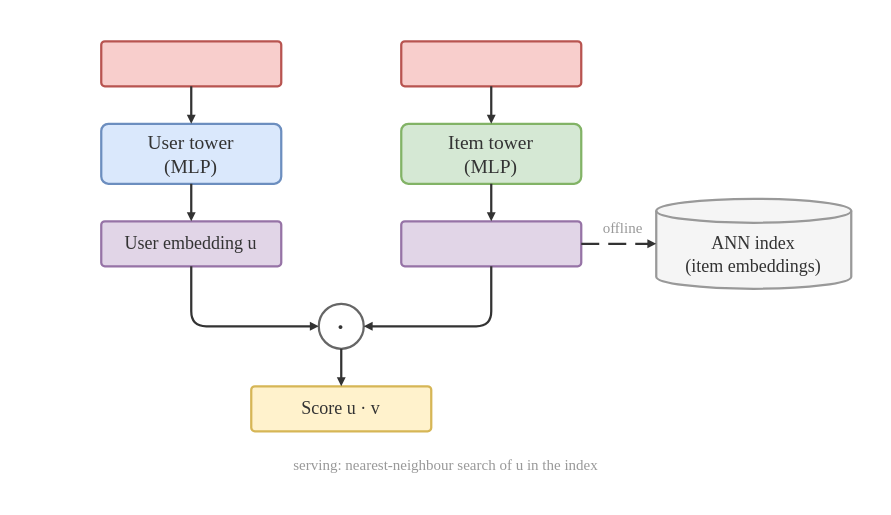
This 891x515 diagram has some shape labels left out. Here are the shapes that lost their labels. From the top down, the centre of each, then its label:
point 190,63: User features
point 490,63: Item features
point 490,243: Item embedding v
